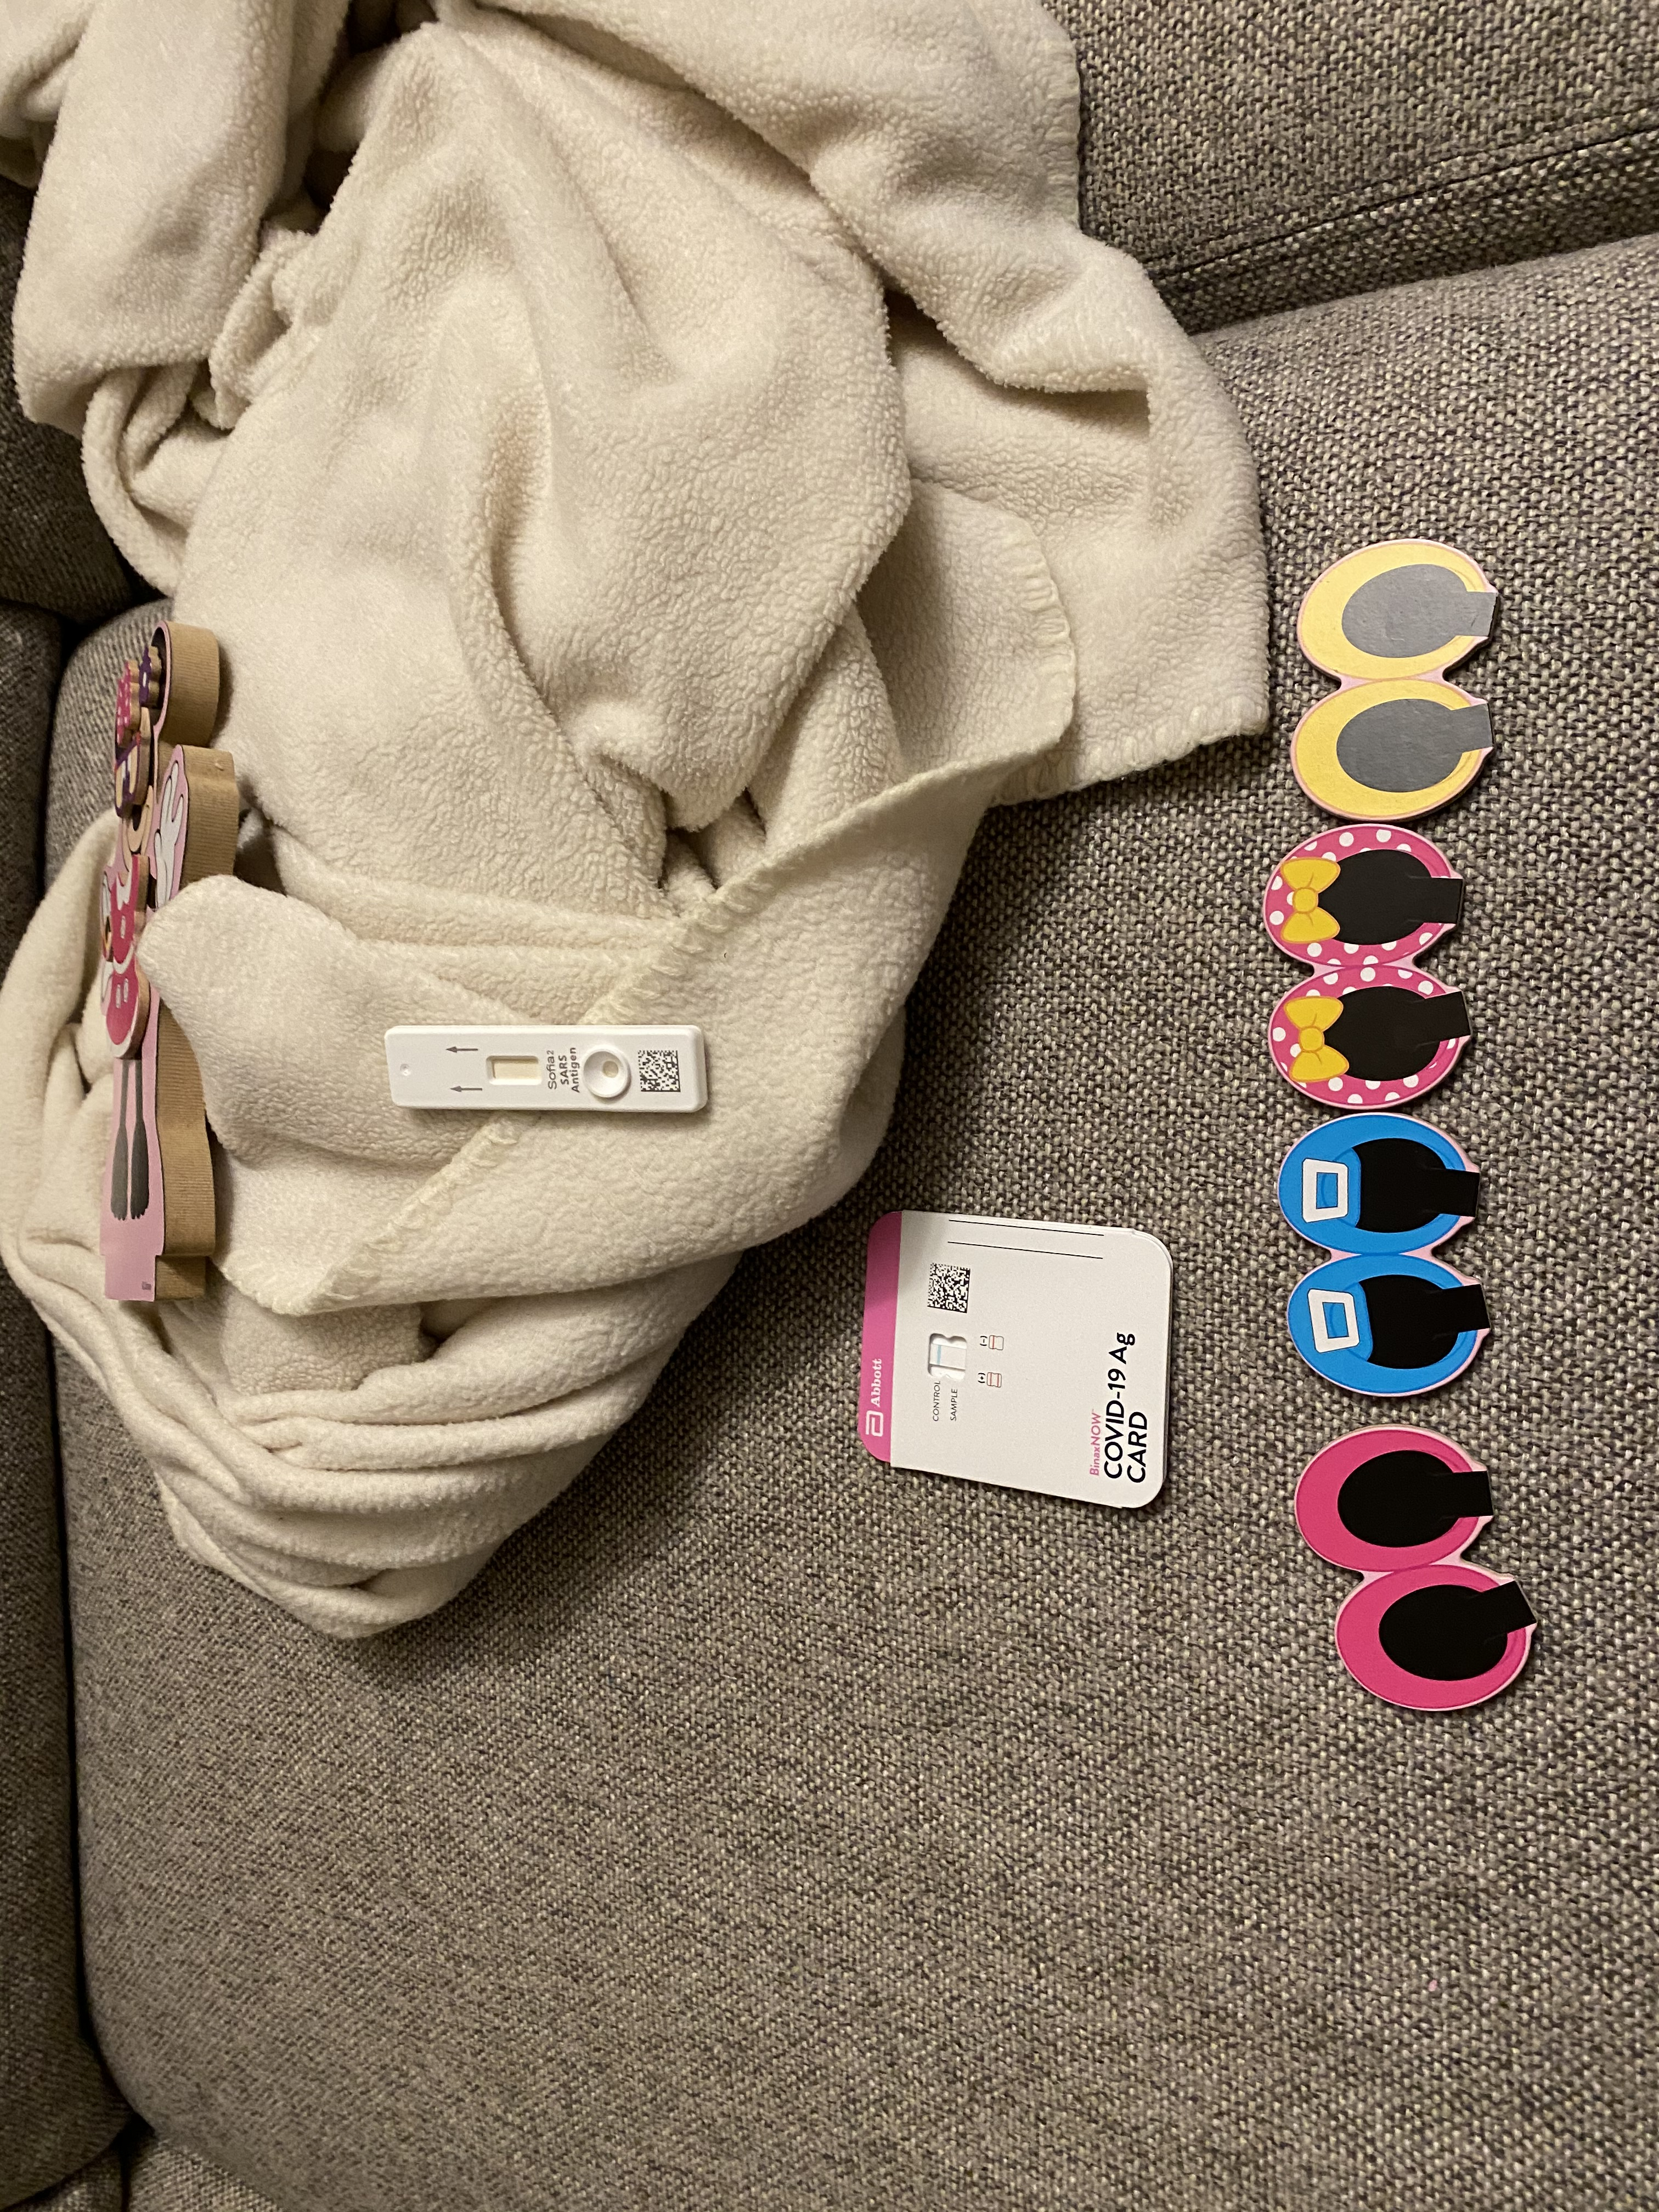binax: (842, 1195, 1185, 1521)
quidel: (375, 1017, 720, 1123)
